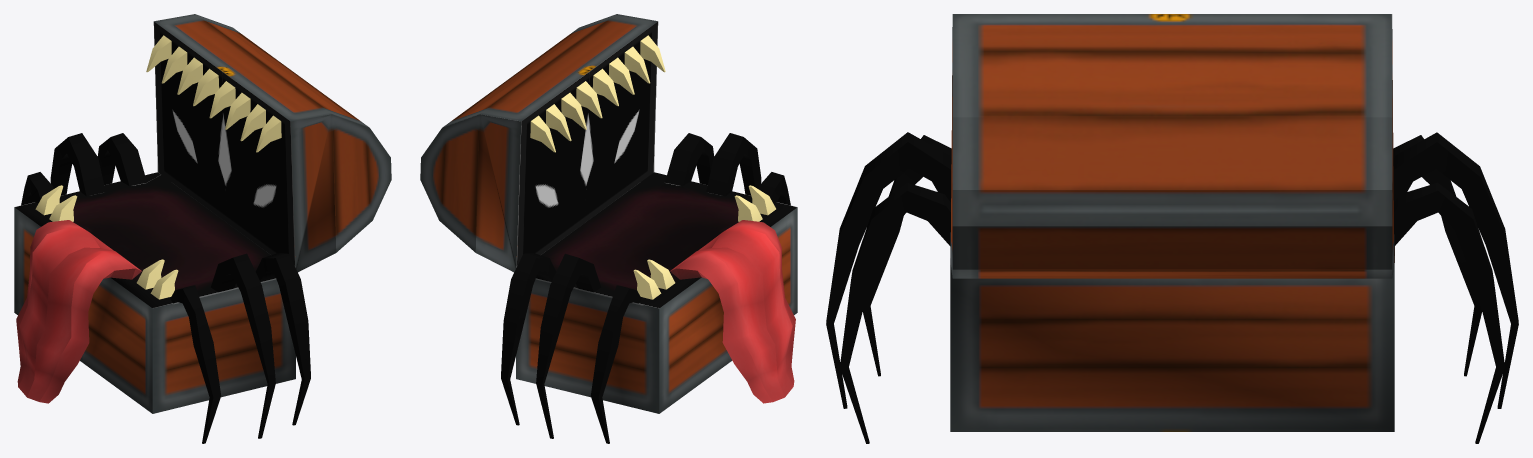
Rendered from cofrearana_000049.obj.
3 renders of one model, left to right at view 1: azimuth 30°, elevation 25°; view 2: azimuth 150°, elevation 25°; view 3: azimuth 270°, elevation 25°, orthographic. The views are drawn at different scales.
Parts seen in each view (by area): view 1: cofreArana:Mesh; view 2: cofreArana:Mesh; view 3: cofreArana:Mesh.
Boxes of the visible parts, x1,y1,x2,y2 form: cofreArana:Mesh: (14, 14, 391, 443); cofreArana:Mesh: (420, 14, 797, 443); cofreArana:Mesh: (826, 14, 1518, 443).
Bounding box in the file's own units: 7.83 × 7.07 × 9.88.
